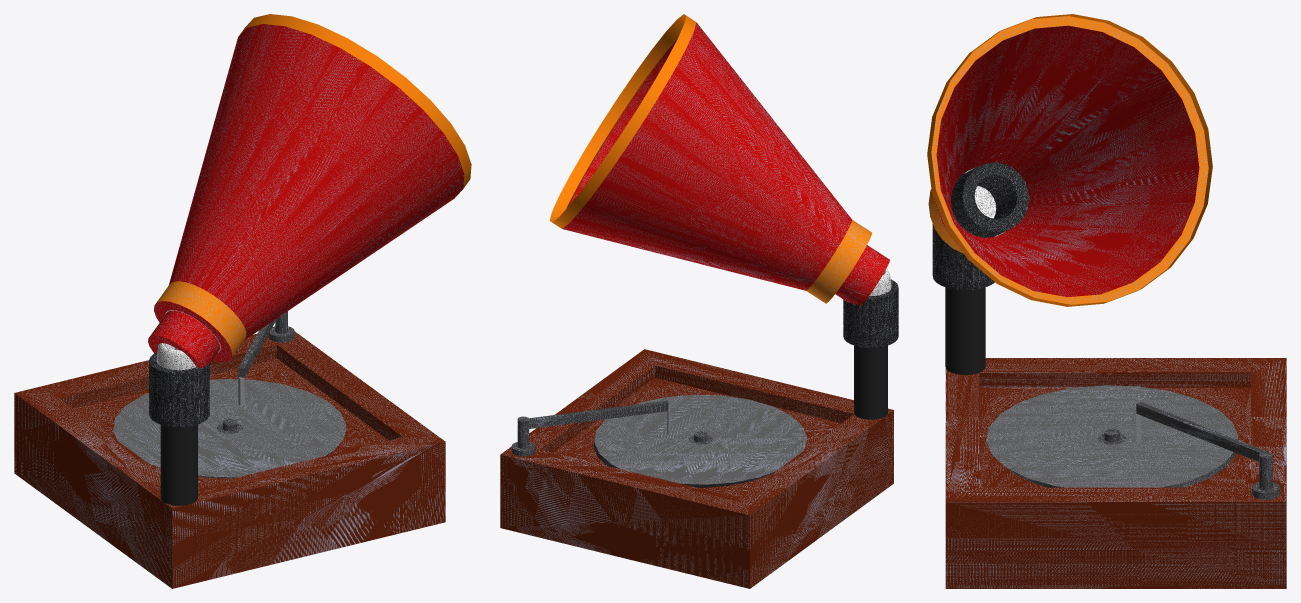
The model's file is vitrola.dae.
The picture shows the model from 3 angles, left to right: view 1: azimuth 30°, elevation 25°; view 2: azimuth 150°, elevation 25°; view 3: azimuth 270°, elevation 25°; orthographic projection. The views are drawn at different scales.
Parts seen in each view (by area): view 1: SketchUp (×12); view 2: SketchUp (×11); view 3: SketchUp (×13).
Boxes of the visible parts, box(x1,y1,x2,y2) form: SketchUp (×12): box(14, 14, 471, 588); SketchUp (×11): box(500, 14, 898, 588); SketchUp (×13): box(927, 14, 1286, 588).
Bounding box in the file's own units: 14.25 × 12.66 × 20.46.
